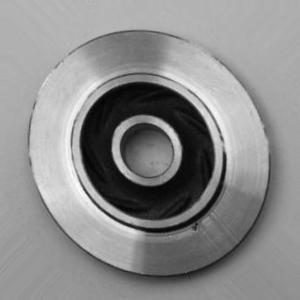crack: (188, 217, 208, 242)
unpolished_casting: (25, 28, 270, 278)
